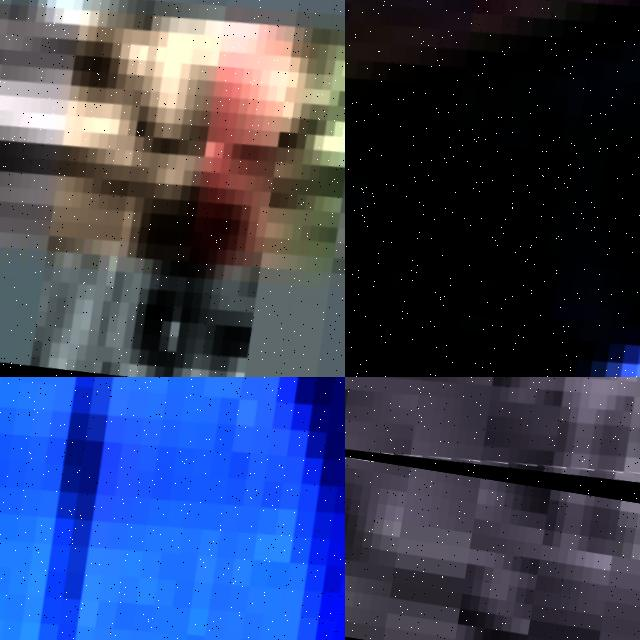drone: (0, 0, 345, 377), (345, 0, 640, 377), (0, 377, 345, 640), (345, 377, 640, 528)
